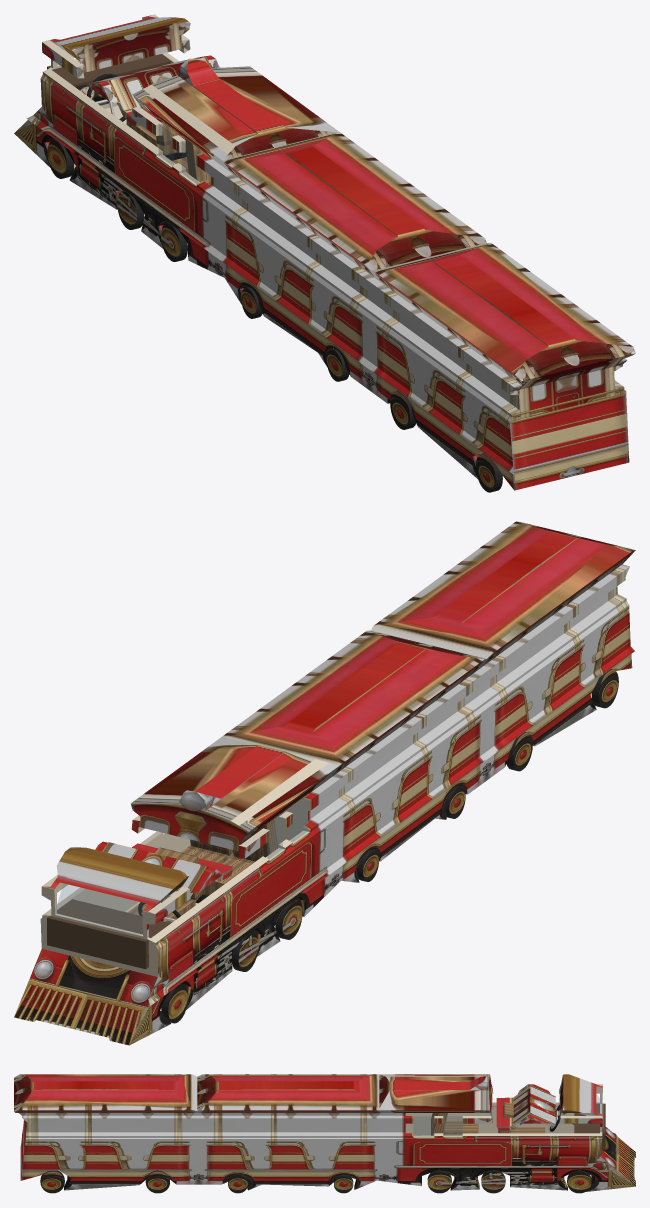
The model's file is kiddie_train.glb.
3 renders of one model, top to bottom at view 1: azimuth 30°, elevation 25°; view 2: azimuth 150°, elevation 25°; view 3: azimuth 270°, elevation 25°, orthographic. The views are drawn at different scales.
Parts seen in each view (by area): view 1: kiddie_train, kiddie_train_cabin, wheel_M2L, wheel_M1L, wheel_FL, wheel_BL, wheel_M5L; view 2: kiddie_train, kiddie_train_cabin, wheel_M1L, wheel_BL, wheel_M2L, wheel_FL, wheel_M5L; view 3: kiddie_train, kiddie_train_cabin, wheel_BR, wheel_M1R, wheel_M2R, wheel_FR, wheel_M5R, wheel_M4R, wheel_M3R.
Part boxes in pixels (x1=…): kiddie_train: x1=14, y1=14, x2=635, y2=490; kiddie_train_cabin: x1=47, y1=49, x2=211, y2=185; wheel_M2L: x1=161, y1=223, x2=187, y2=261; wheel_M1L: x1=117, y1=191, x2=144, y2=229; wheel_FL: x1=47, y1=140, x2=74, y2=178; wheel_BL: x1=476, y1=453, x2=502, y2=492; wheel_M5L: x1=390, y1=390, x2=415, y2=429; kiddie_train: x1=14, y1=521, x2=635, y2=1045; kiddie_train_cabin: x1=47, y1=799, x2=307, y2=969; wheel_M1L: x1=231, y1=932, x2=258, y2=971; wheel_BL: x1=591, y1=669, x2=618, y2=708; wheel_M2L: x1=275, y1=900, x2=302, y2=939; wheel_FL: x1=161, y1=984, x2=188, y2=1023; wheel_M5L: x1=506, y1=732, x2=532, y2=771; kiddie_train: x1=14, y1=1074, x2=635, y2=1191; kiddie_train_cabin: x1=413, y1=1095, x2=605, y2=1149; wheel_BR: x1=40, y1=1170, x2=64, y2=1193; wheel_M1R: x1=481, y1=1169, x2=505, y2=1193; wheel_M2R: x1=427, y1=1169, x2=451, y2=1193; wheel_FR: x1=567, y1=1170, x2=591, y2=1193; wheel_M5R: x1=145, y1=1170, x2=169, y2=1193; wheel_M4R: x1=228, y1=1174, x2=248, y2=1193; wheel_M3R: x1=334, y1=1174, x2=353, y2=1193.
Size of the model in its own units: 1.11 by 1.4 by 7.99.
Materials: 11 (4 with a texture image).
